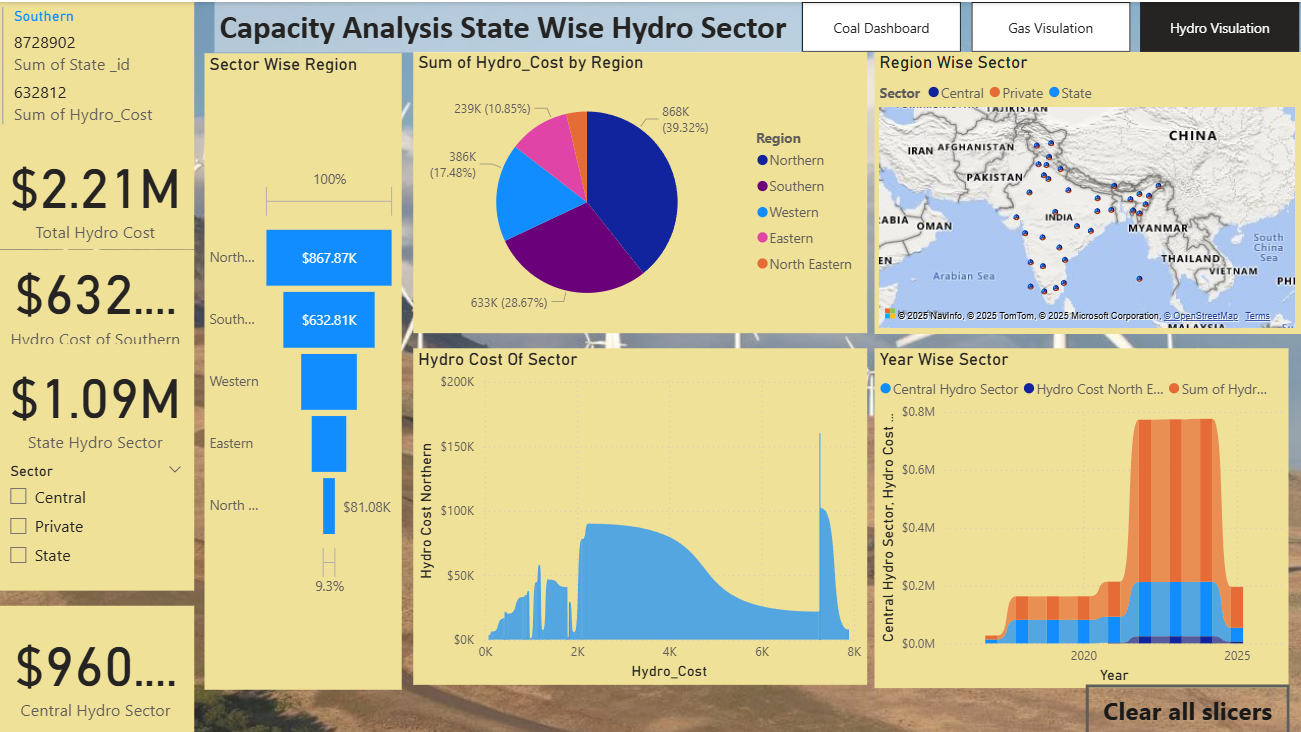

The dashboard page shown, as its layout file describes it:
{"tool":"powerbi","page":{"name":"Hydro Visulation","canvas":[1280,720],"ordinal":9},"visuals":[{"type":"ribbonChart","title":"Hydro Cost Of Sector","fields":{"Category":["Capacity Statewise.Hydro_Cost"],"Y":["Capacity Statewise.Hydro Cost Northern"]},"box":[408.6,339.9,445.4,330.1],"z":0},{"type":"ribbonChart","title":"Year Wise Sector","fields":{"Y":["Capacity Statewise.Central Hydro Sector","Capacity Statewise.Hydro Cost North Eastern","Sum(Capacity Statewise.Hydro_Cost)"],"Category":["Calendar.Year"]},"box":[861.8,340.3,406.2,333.4],"z":1000},{"type":"multiRowCard","title":"State & Region Wise Cost","fields":{"Values":["Sum(Capacity Statewise.State _id)","Sum(Capacity Statewise.Hydro_Cost)","Capacity Statewise.Region"]},"box":[0,0,193.5,131.7],"z":2000},{"type":"funnel","title":"Sector Wise Region","fields":{"Category":["Capacity Statewise.Region","Capacity Statewise.State_name","Capacity Statewise.Sector"],"Y":["Capacity Statewise.Total Hydro Cost"]},"box":[203.7,50.3,193.9,624.5],"z":3000},{"type":"card","fields":{"Values":["installed-capacity-statewise (1.Total Hydro Cost"]},"box":[0,131.7,193.5,111.1],"z":4000},{"type":"card","fields":{"Values":["Capacity Statewise.Hydro Cost of Southern"]},"box":[0,242.9,193.5,97.4],"z":5000},{"type":"card","fields":{"Values":["Capacity Statewise.State Hydro Sector"]},"box":[0,340.3,193.5,107],"z":6000},{"type":"map","title":"Region Wise Sector ","fields":{"Category":["Capacity Statewise.State_name"],"Series":["Capacity Statewise.Sector"],"Y":["Capacity Statewise.Total Hydro Cost"]},"box":[861.4,49.1,418.4,276.1],"z":7000},{"type":"pieChart","fields":{"Category":["Capacity Statewise.Region"],"Y":["Sum(Capacity Statewise.Hydro_Cost)"]},"box":[408.6,49.1,445.4,276.1],"z":8000},{"type":"textbox","box":[214.1,0,576.3,49.4],"z":9000},{"type":"pageNavigator","box":[790.2,0,489.6,49.1],"z":10000},{"type":"actionButton","box":[1068.6,670.2,200.3,49.8],"z":11000},{"type":"slicer","fields":{"Values":["Capacity Statewise.Sector"]},"box":[0,446.6,193.9,131.3],"z":12000},{"type":"card","fields":{"Values":["Capacity Statewise.Central Hydro Sector"]},"box":[0,592.6,193.9,127.6],"z":13000}]}

Visuals, with their boxes in screenshot pixels (x1, y1, x2, y2), scaled from the page's 1280x720 canvas onto the 1301x732 screenshot:
"Hydro Cost Of Sector" ribbonChart: region(415, 346, 868, 681)
"Year Wise Sector" ribbonChart: region(876, 346, 1289, 685)
"State & Region Wise Cost" multiRowCard: region(0, 0, 197, 134)
"Sector Wise Region" funnel: region(207, 51, 404, 686)
card - installed-capacity-statewise (1.Total Hydro Cost: region(0, 134, 197, 247)
card - Capacity Statewise.Hydro Cost of Southern: region(0, 247, 197, 346)
card - Capacity Statewise.State Hydro Sector: region(0, 346, 197, 455)
"Region Wise Sector " map: region(876, 50, 1300, 331)
pieChart - Capacity Statewise.Region x Sum(Capacity Statewise.Hydro_Cost): region(415, 50, 868, 331)
textbox: region(218, 0, 803, 50)
pageNavigator: region(803, 0, 1300, 50)
actionButton: region(1086, 681, 1290, 731)
slicer - Capacity Statewise.Sector: region(0, 454, 197, 588)
card - Capacity Statewise.Central Hydro Sector: region(0, 602, 197, 731)
